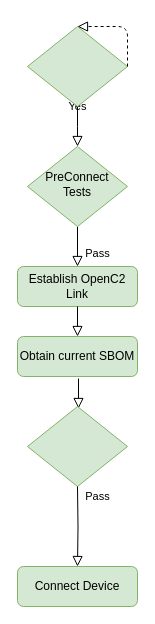
Image size: 155x624. Some labels were removed from this diagram. Each missing label, with the centre of its shape:
Analyze Vulnerabilty /License: the point at 77,446
Await New Device: the point at 77,66
